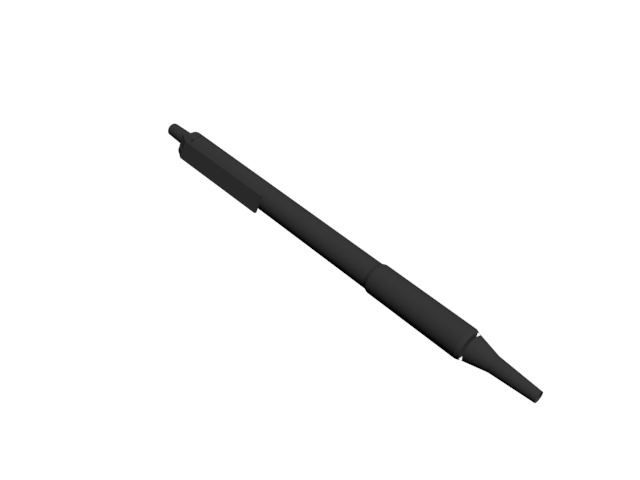pen: (161, 121, 544, 408)
